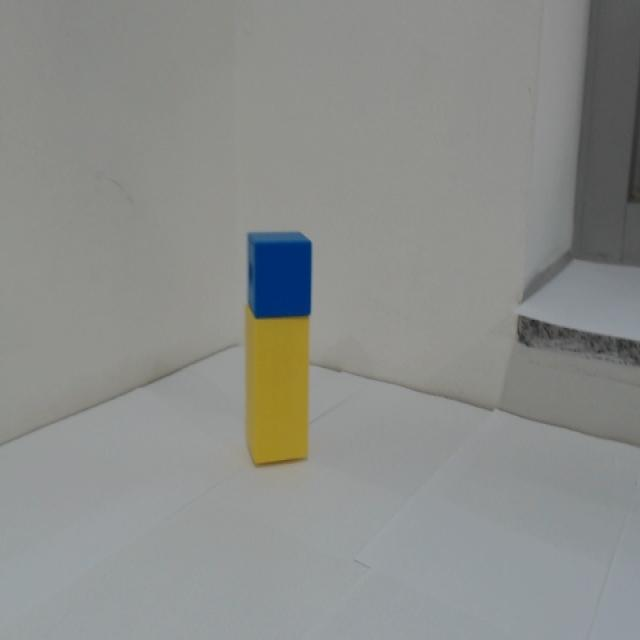cube: (246, 229, 314, 321)
